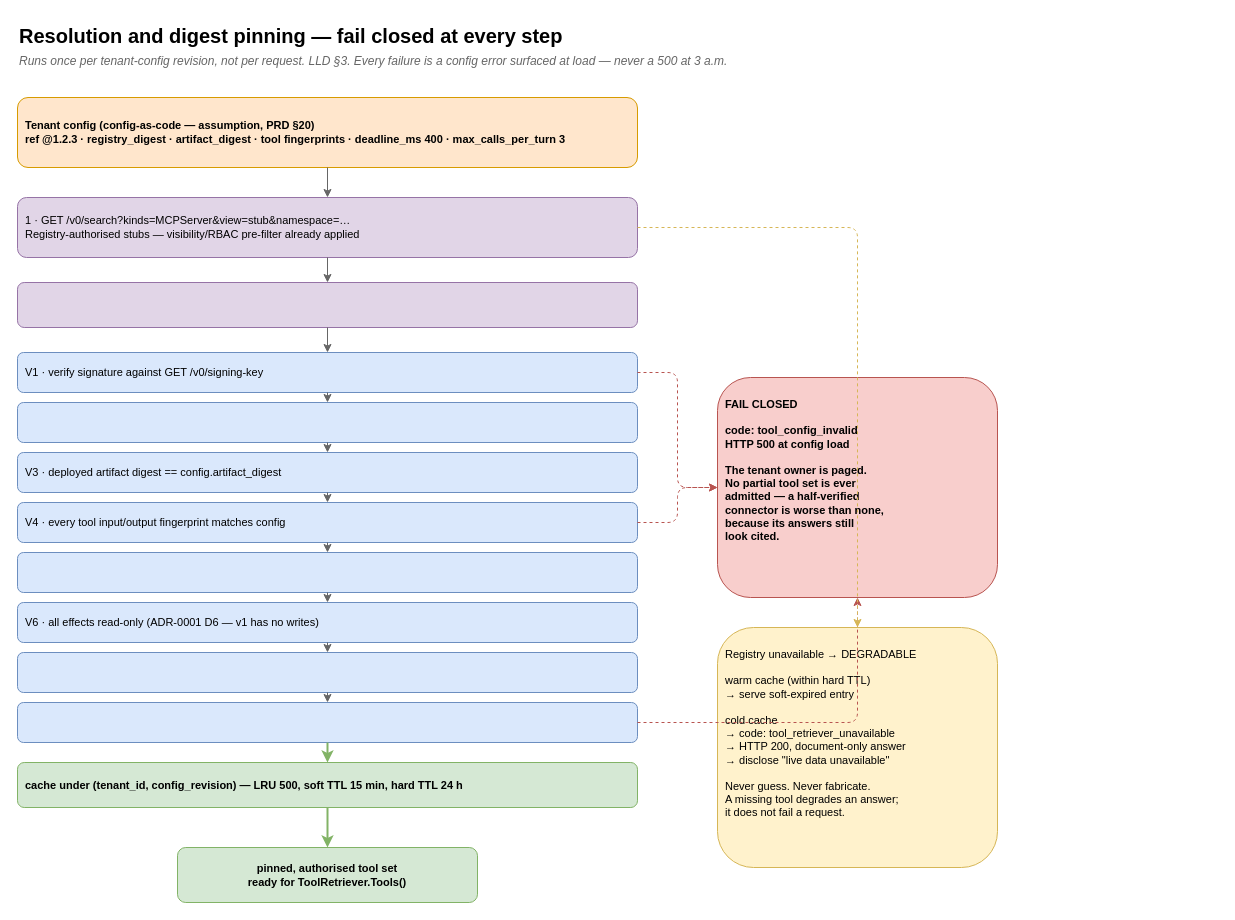
This 1235x920 diagram has some shape labels left out. Each missing label, with the centre of its shape:
"2 · same-origin fetch via stub.fetchPath → exact MCPServer object" belongs at [327,305].
"V2 · object digest == config.registry_digest" belongs at [327,422].
"V5 · output schema present and closed (no citation without a typed result)" belongs at [327,572].
"V7 · route_policy.direct_access == false (all traffic via gateway, D4)" belongs at [327,672].
"V8 · no tenant/user-identity-shaped property in any input schema" belongs at [327,722].
